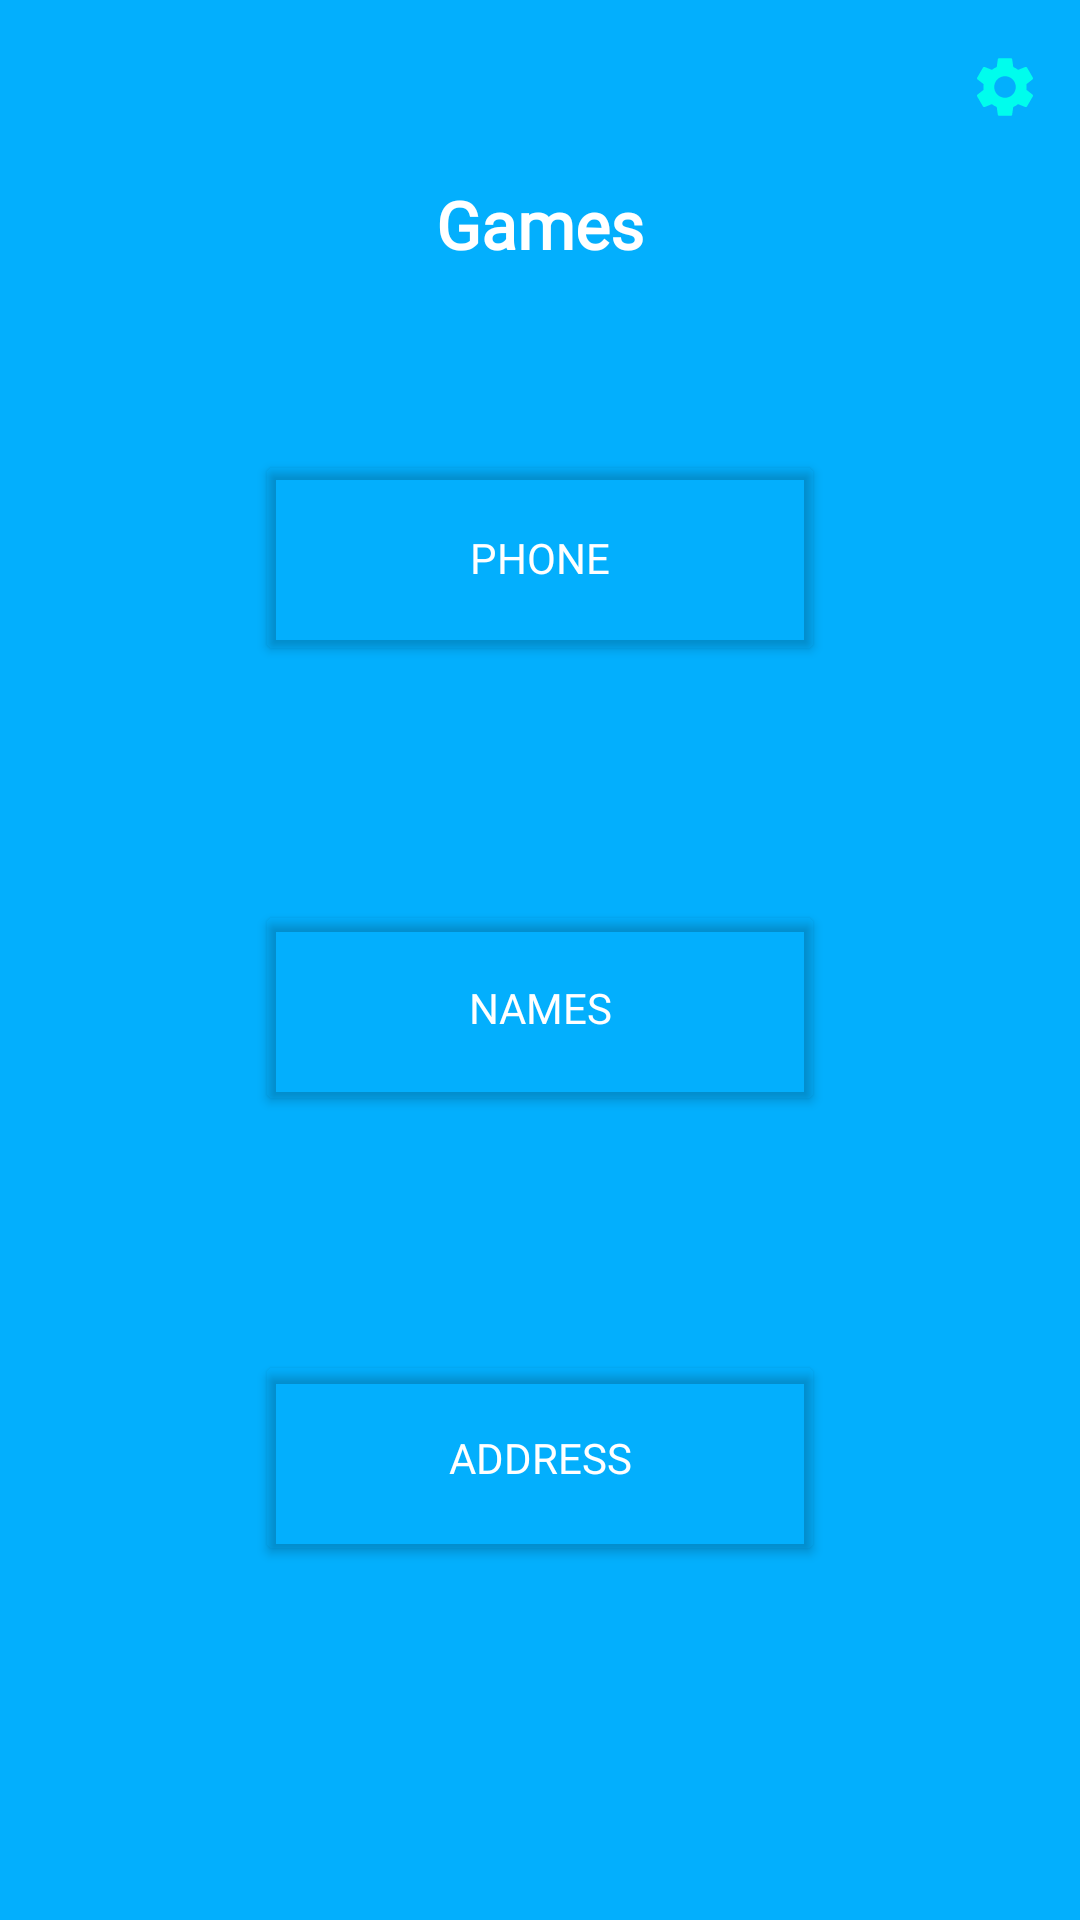

Screen size 1080 × 1920. Icon name, then its box in pixels as (x1, y1, x2, y2):
settings: (977, 58, 1033, 116)
